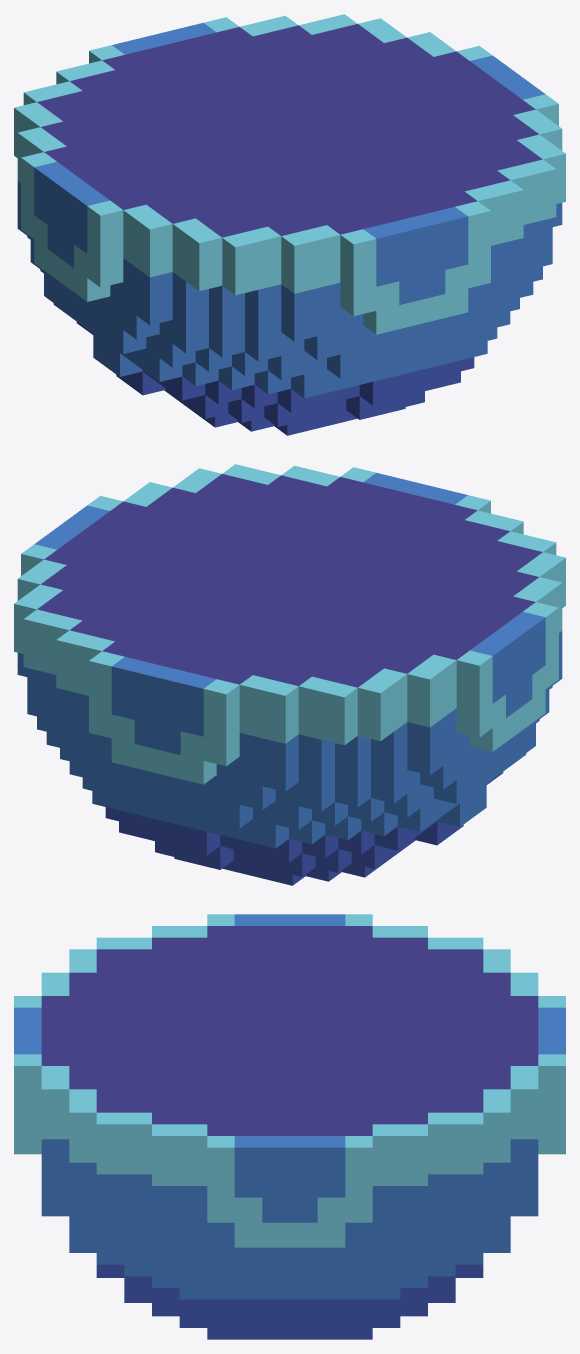
The model's file is teapot_7.obj.
The picture shows the model from 3 angles, top to bottom: view 1: azimuth 30°, elevation 25°; view 2: azimuth 150°, elevation 25°; view 3: azimuth 270°, elevation 25°; orthographic projection. The views are drawn at different scales.
Bounding box in the file's own units: 2 × 1 × 2.
1 material, 1 textured.
